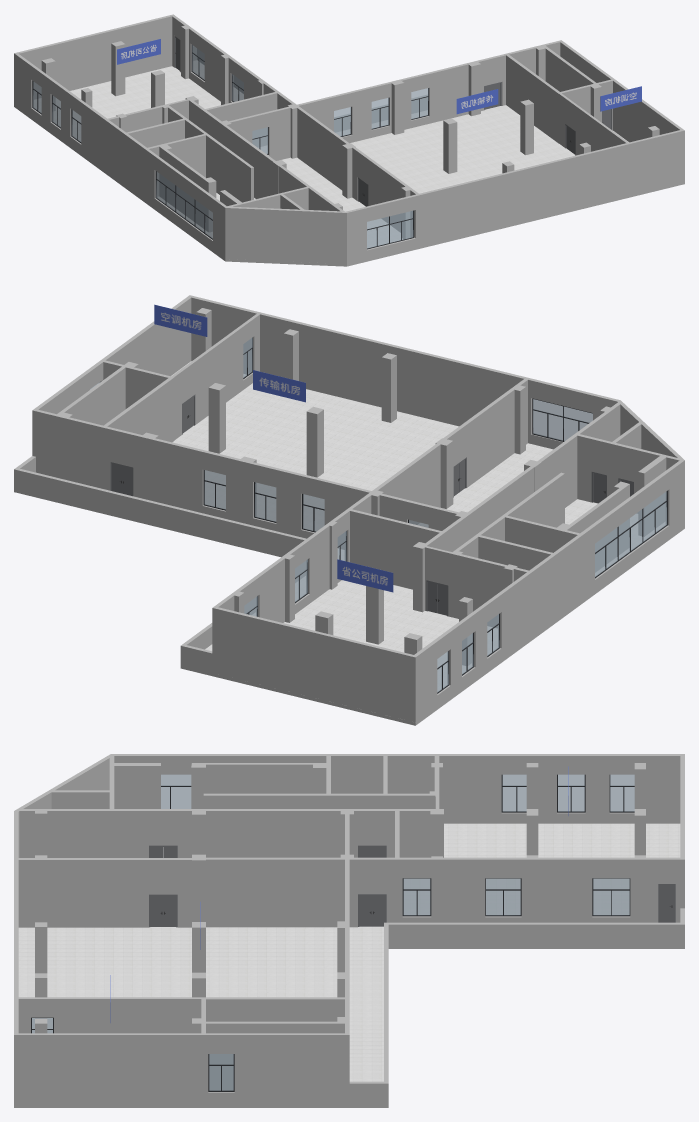
Rendered from floorFour.FBX.
3 views of the same model, one above another, from view 1: azimuth 30°, elevation 25°; view 2: azimuth 150°, elevation 25°; view 3: azimuth 270°, elevation 25° (orthographic). The views are drawn at different scales.
Visible parts, largest first — view 1: Line010; view 2: Line010; view 3: Line010.
Part boxes in pixels (x1,y1,x2,y2): Line010: (14,14,684,266); Line010: (14,295,684,725); Line010: (14,754,684,1107).
Bounding box in the file's own units: 34770 × 5790 × 35075.
10 materials, 4 textured.
